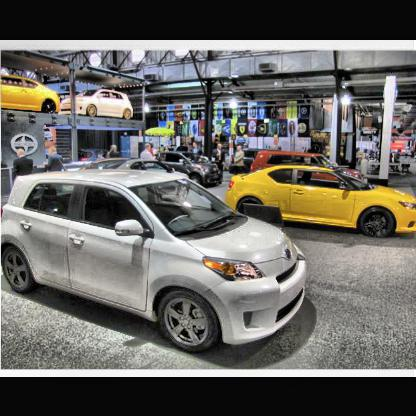Scion xD Hatchback 2012: (3, 171, 308, 360)
